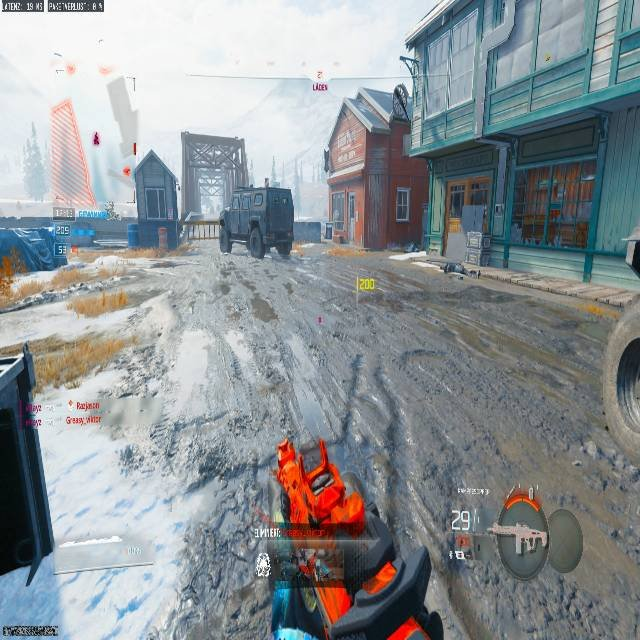player: (268, 435, 411, 637)
